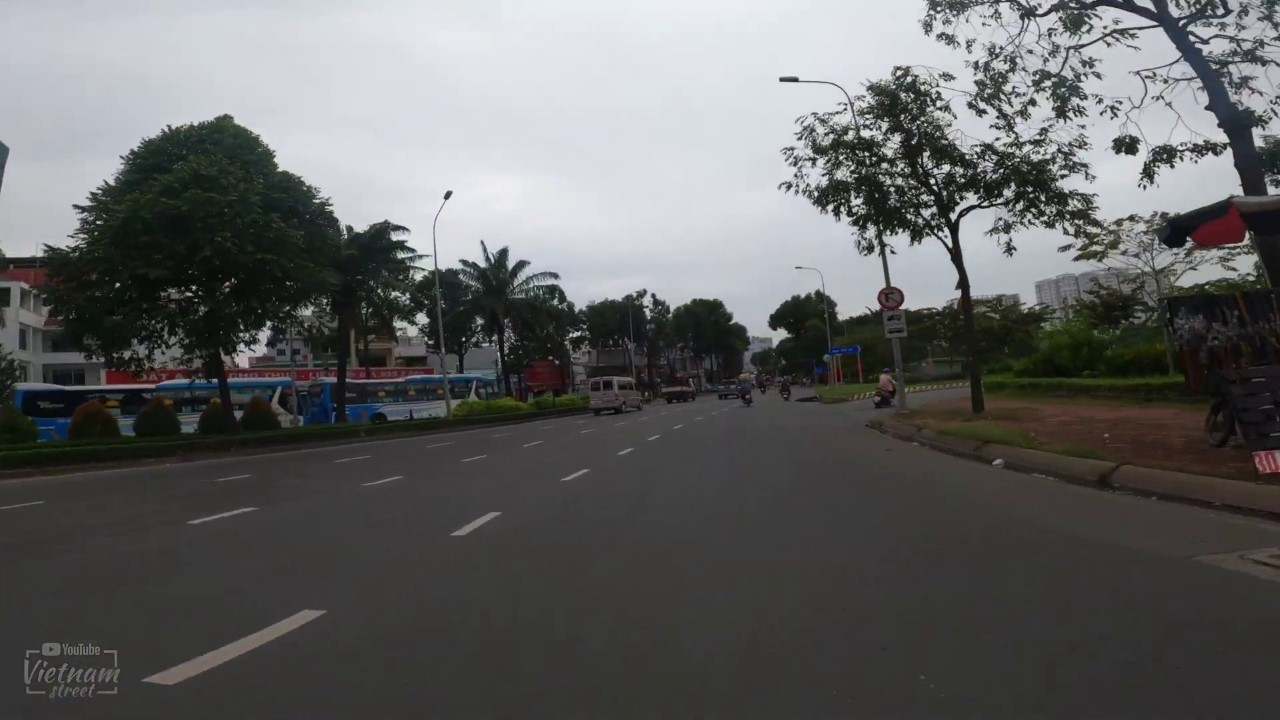cam_re_phai: (876, 286, 905, 311)
